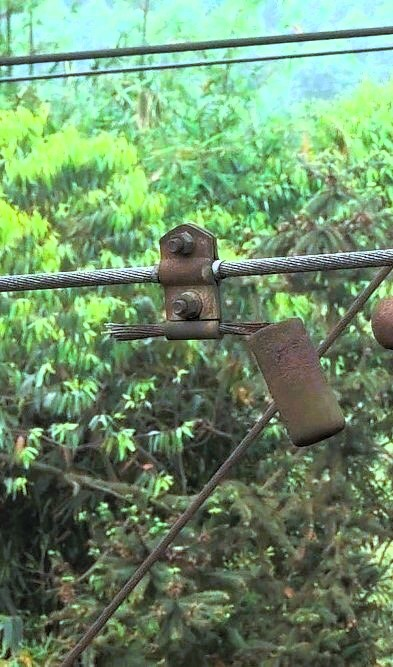Damage of shockproof hammer: (85, 205, 360, 471)
